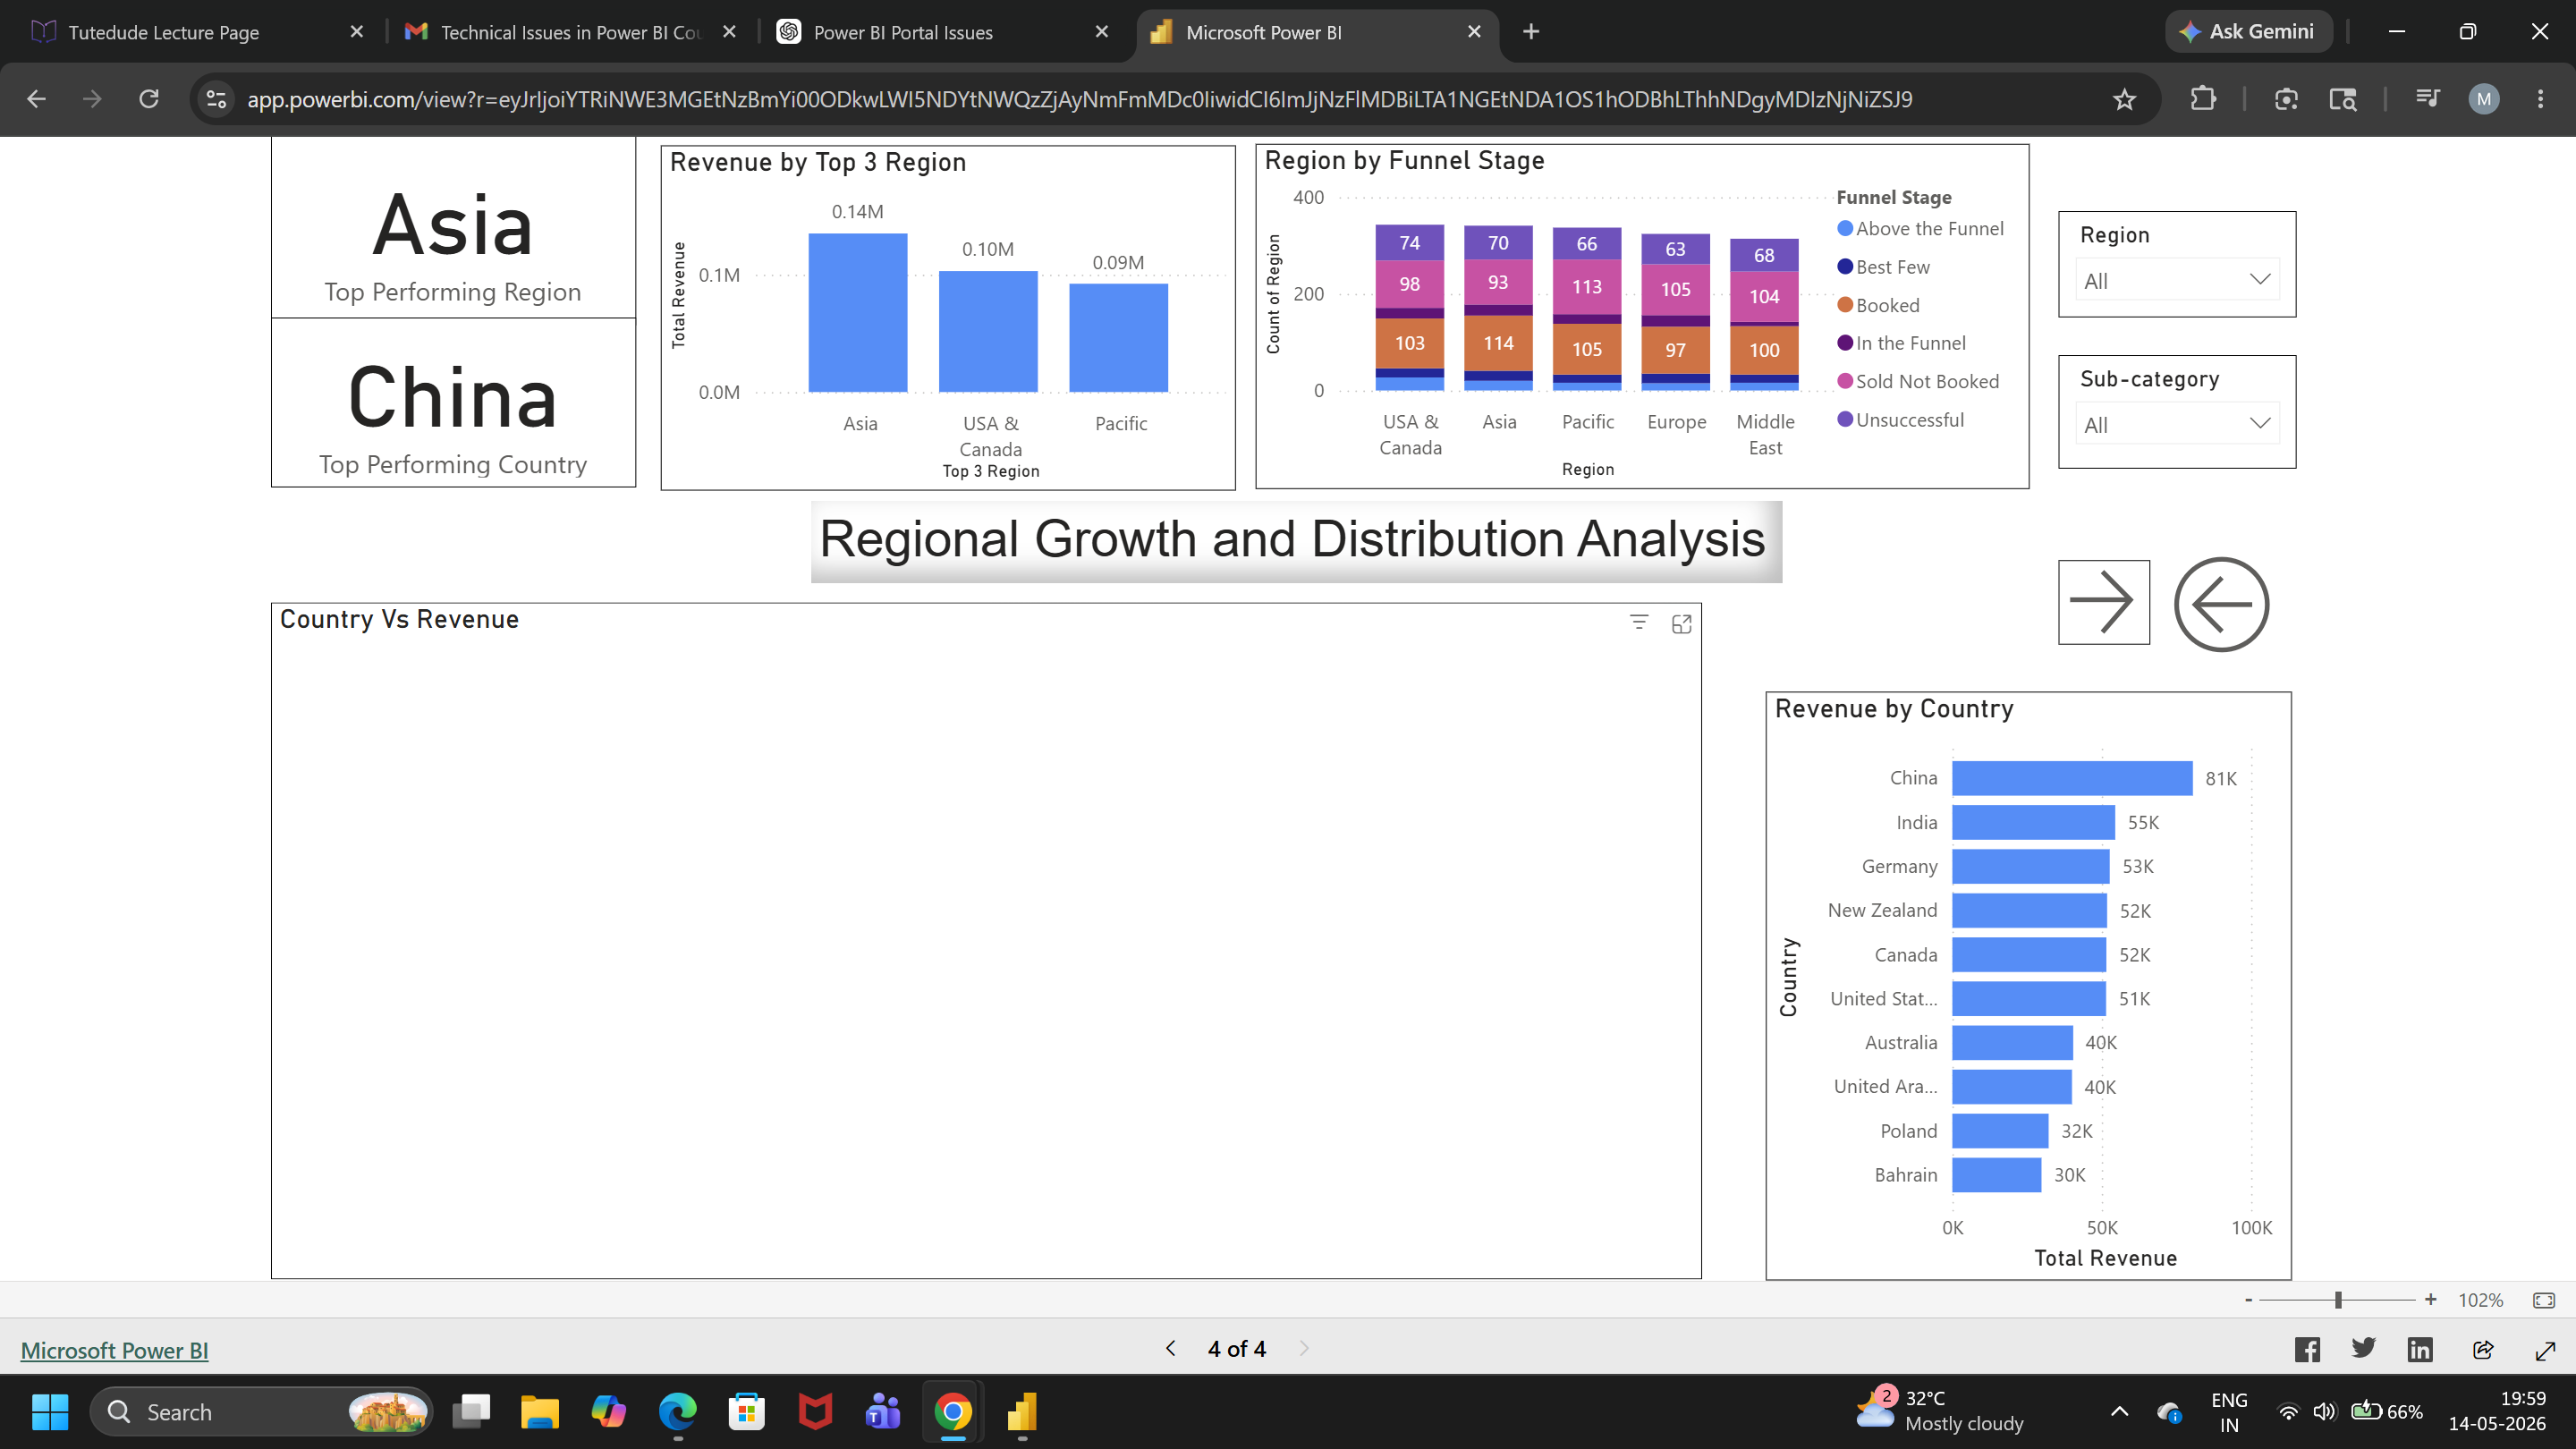

The dashboard page shown, as its layout file describes it:
{"tool":"powerbi","page":{"name":"Geographic Analysis","canvas":[1280,720],"ordinal":6},"visuals":[{"type":"slicer","fields":{"Values":["Sheet1.Region"]},"box":[203.5,472,176.6,182.7],"z":0},{"type":"slicer","fields":{"Values":["Sheet1.Region"]},"box":[1123.7,47.4,149.7,66.7],"z":1000},{"type":"slicer","fields":{"Values":["Sheet1.Sub-category"]},"box":[1123.7,137.9,149.7,71.2],"z":3000},{"type":"azureMap","fields":{"Category":["Sheet1.Country"],"Series":["Sheet1.Region"],"Size":["select"]},"box":[0,293.5,899.9,425.5],"z":4000},{"type":"barChart","fields":{"Y":["Sheet1.Total Opportunity Value"],"Category":["Sheet1.Country"]},"box":[940.4,349.4,331,370.3],"z":5000},{"type":"card","fields":{"Values":["Sheet1.Top Performing Region"]},"box":[0,0,229.8,118.6],"z":7000},{"type":"columnChart","fields":{"Category":["Sheet1.Region"],"Y":["Sheet1.Total Opportunity Value"]},"box":[245.2,6.1,361.7,217],"z":8000},{"type":"columnChart","fields":{"Category":["Sheet1.Region"],"Series":["Sheet1.Funnel Stage"],"Y":["CountNonNull(Sheet1.Region)"]},"box":[619.2,4.9,486.7,217],"z":9000},{"type":"card","fields":{"Values":["Sheet1.Top Performing Country"]},"box":[0,114.2,229.8,106.7],"z":10000},{"type":"actionButton","title":"Next","box":[1123.7,266.8,57.8,53.4],"z":14000},{"type":"actionButton","box":[1188.9,256.5,81.5,75.6],"z":15000},{"type":"textbox","box":[339.5,229.8,610.8,51.9],"z":17000}]}

Visuals, with their boxes on the page's 1280x720 design canvas (x1, y1, x2, y2). These are canvas units, not pixel positions in the 2576x1449 screenshot, which may show the page scaled, cropped or inside an application window:
slicer - Sheet1.Region: box=[204, 472, 380, 655]
slicer - Sheet1.Region: box=[1124, 47, 1273, 114]
slicer - Sheet1.Sub-category: box=[1124, 138, 1273, 209]
azureMap - Sheet1.Country x Sheet1.Region: box=[0, 294, 900, 719]
barChart - Sheet1.Total Opportunity Value x Sheet1.Country: box=[940, 349, 1271, 720]
card - Sheet1.Top Performing Region: box=[0, 0, 230, 119]
columnChart - Sheet1.Region x Sheet1.Total Opportunity Value: box=[245, 6, 607, 223]
columnChart - Sheet1.Region x Sheet1.Funnel Stage: box=[619, 5, 1106, 222]
card - Sheet1.Top Performing Country: box=[0, 114, 230, 221]
"Next" actionButton: box=[1124, 267, 1182, 320]
actionButton: box=[1189, 256, 1270, 332]
textbox: box=[340, 230, 950, 282]
